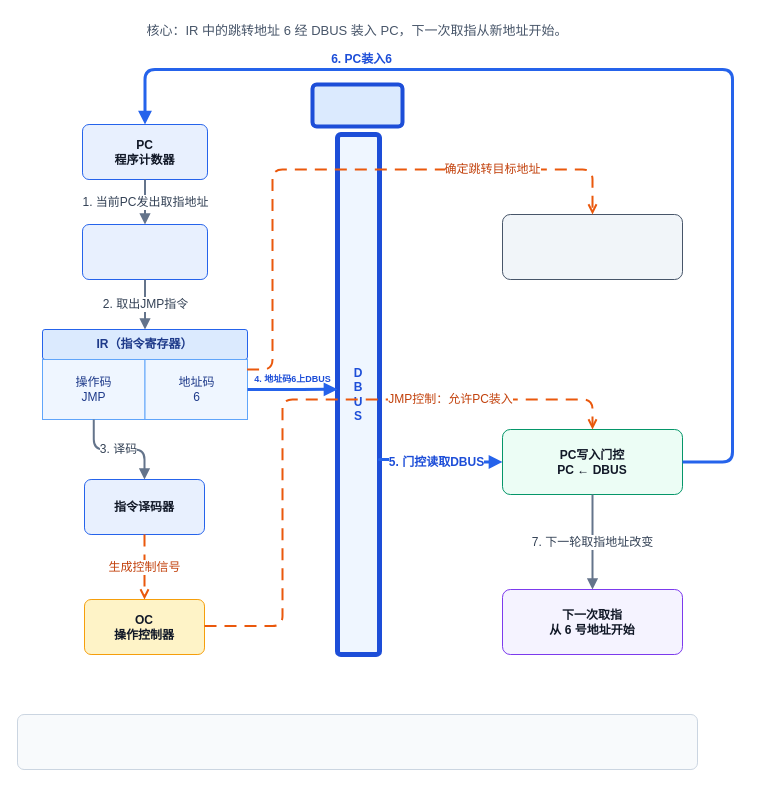
Image size: 759x787. Some labels were removed from this diagram. Here are the shapes that lost their labels. From the top down, the box of each, then its label:
(310, 82, 404, 128): DBUS 数据总线
(82, 224, 208, 280): IM 指令存储器
(502, 214, 682, 280): 目标地址 来自 IR 地址码：6
(16, 714, 698, 770): 一句话流程： JMP 6 = IR 地址码 6 → DBUS → PC，之后 CPU 从 6 号地址开始取下一条指令
